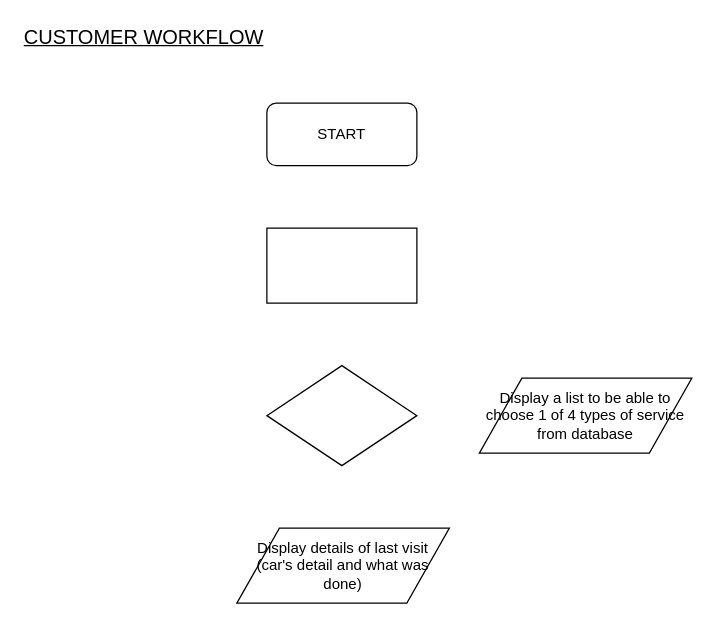
The diagram is 714 pixels wide and 625 high, and some of its shapes have lost their labels. Each missing label, with the centre of its shape:
Customer log in: the point at 341,265
Were they here before?: the point at 341,415
